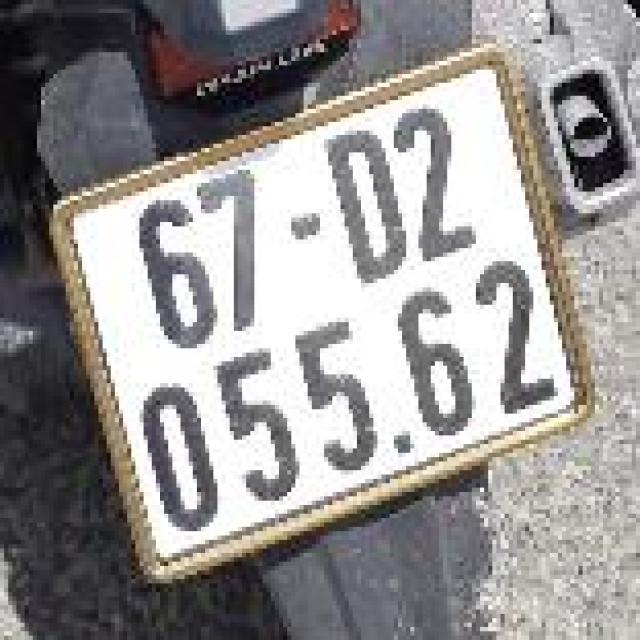0: (127, 366, 236, 550)
2: (377, 93, 496, 283), (458, 252, 575, 435)
5: (204, 341, 318, 517), (281, 312, 392, 490)
6: (377, 281, 499, 459), (125, 189, 229, 365)
7: (187, 160, 282, 346)
D: (305, 112, 428, 301)
